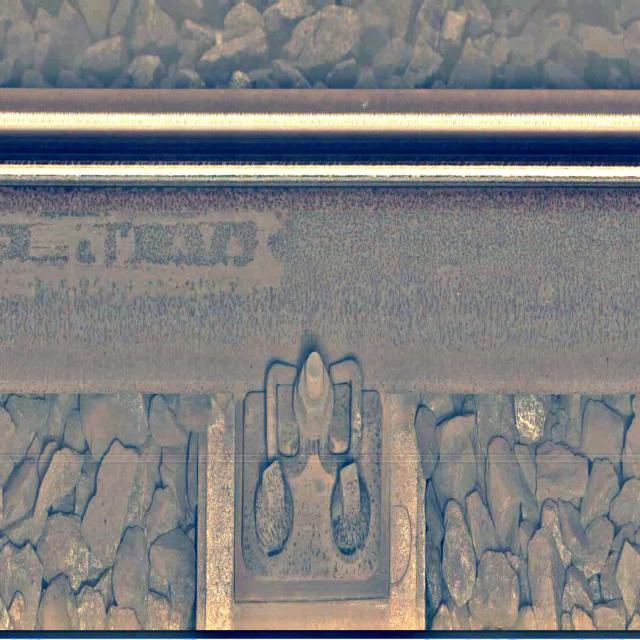Good Fasteners: (236, 351, 389, 601)
